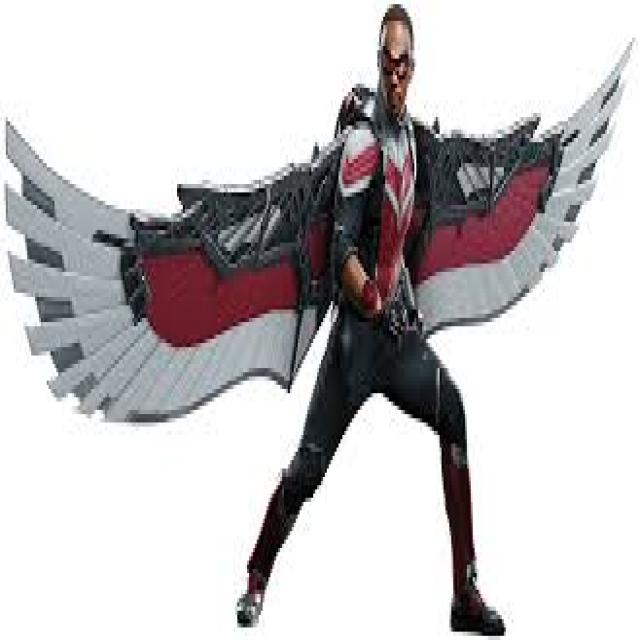falcon: (4, 2, 636, 632)
